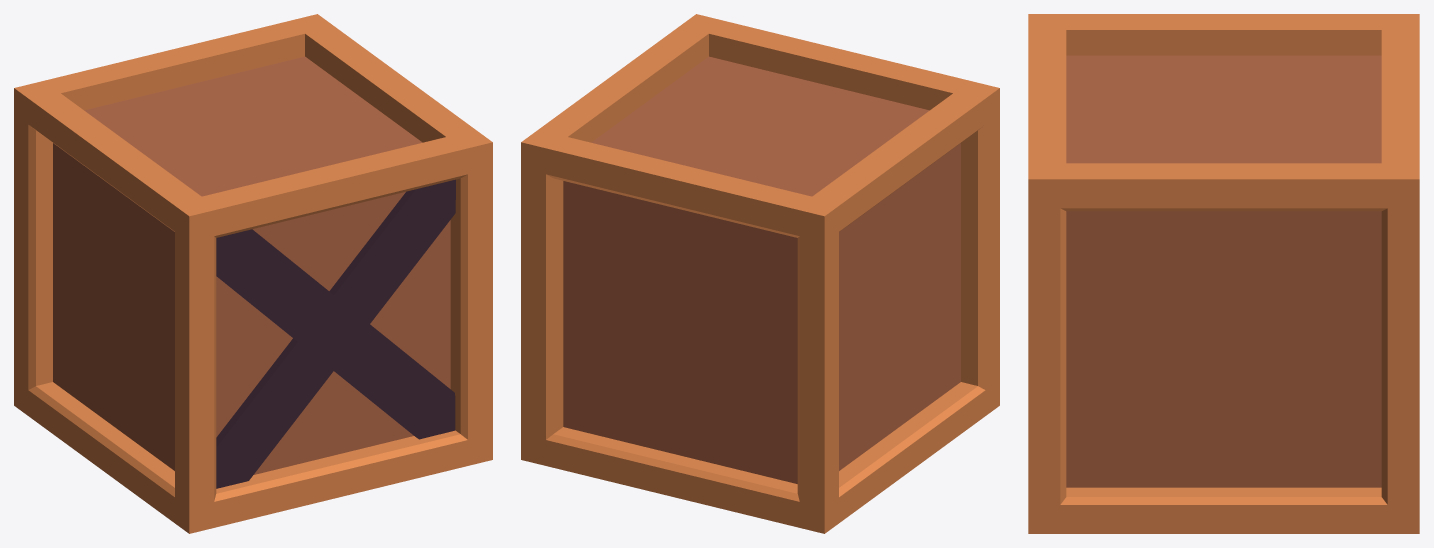
File: CaixaMedia.fbx
3 renders of one model, left to right at view 1: azimuth 30°, elevation 25°; view 2: azimuth 150°, elevation 25°; view 3: azimuth 270°, elevation 25°, orthographic. The views are drawn at different scales.
Parts seen in each view (by area): view 1: CaixaMedia_LOD0; view 2: CaixaMedia_LOD0; view 3: CaixaMedia_LOD0.
Boxes of the visible parts, bbox=[...] form: CaixaMedia_LOD0: bbox=[14, 14, 492, 533]; CaixaMedia_LOD0: bbox=[521, 14, 999, 533]; CaixaMedia_LOD0: bbox=[1028, 14, 1419, 533].
Size of what is drawn, in the model's own units: 0.7023 by 0.7023 by 0.7023.
